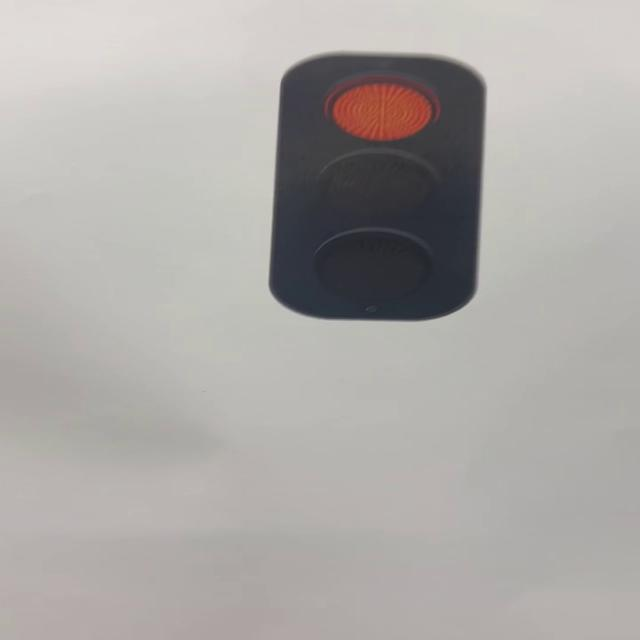red: (273, 50, 483, 324)
